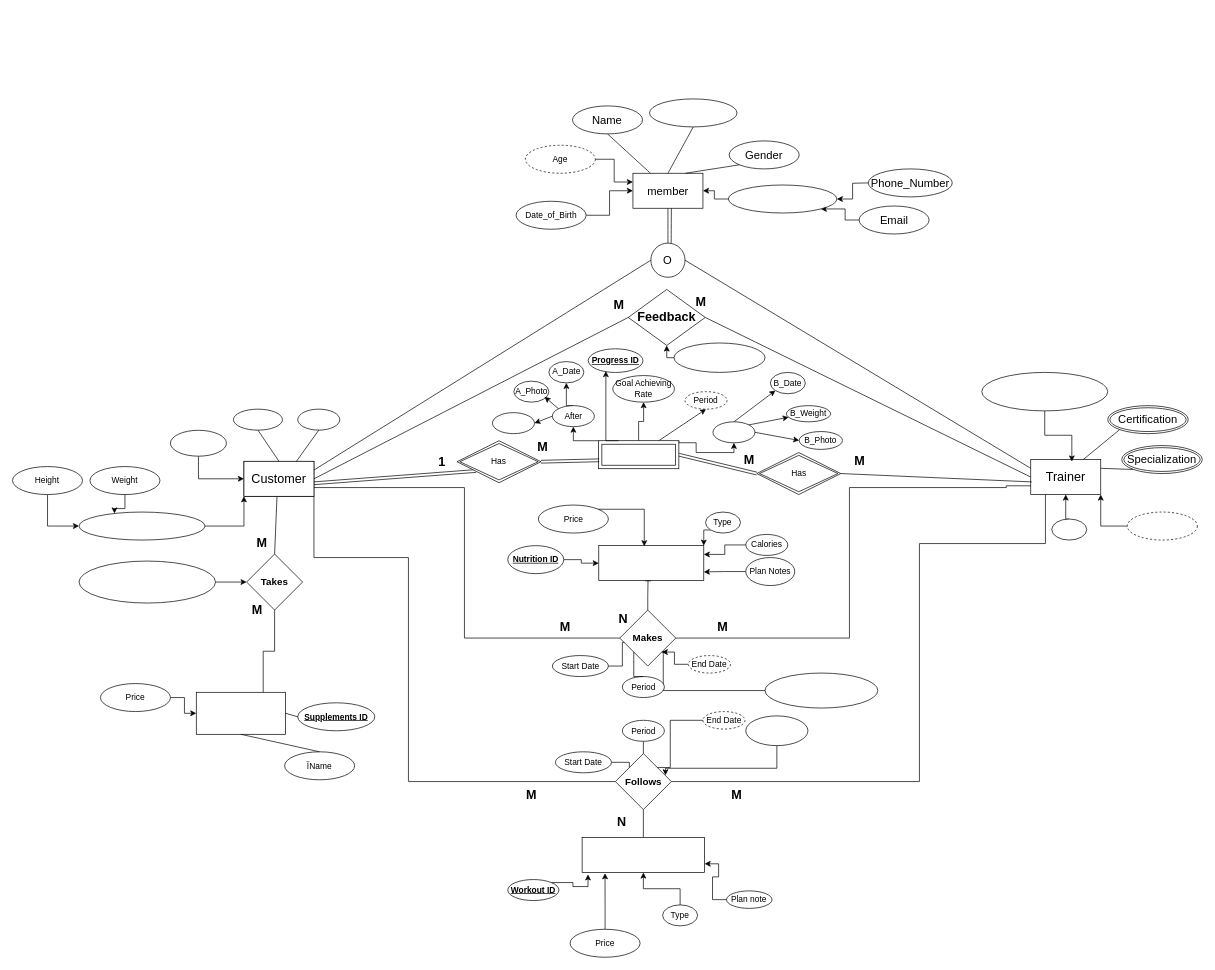
This 1215x970 diagram has some shape labels left out. Each missing label, with the centre of its shape:
A_Weight: the point at 513,423
Before: the point at 733,432
Body_Information: the point at 141,525
Contact Information: the point at 782,198
Customer_rate_trainer: the point at 719,357
Disease: the point at 198,443
level: the point at 257,419
Member_ID: the point at 693,112
Nutrition_Effectiveness_Rate: the point at 821,690
Nutrition_program: the point at 651,563
Profit: the point at 1162,525
Salary: the point at 1069,529
Supplement Purchase Frequency: the point at 147,581
Supplements: the point at 241,713
Target: the point at 318,419
Trainer_Respond_Time_Rate: the point at 1044,391
Transformation: the point at 638,454
Workout Effectiveness: the point at 776,730
Workout_program: the point at 643,855
